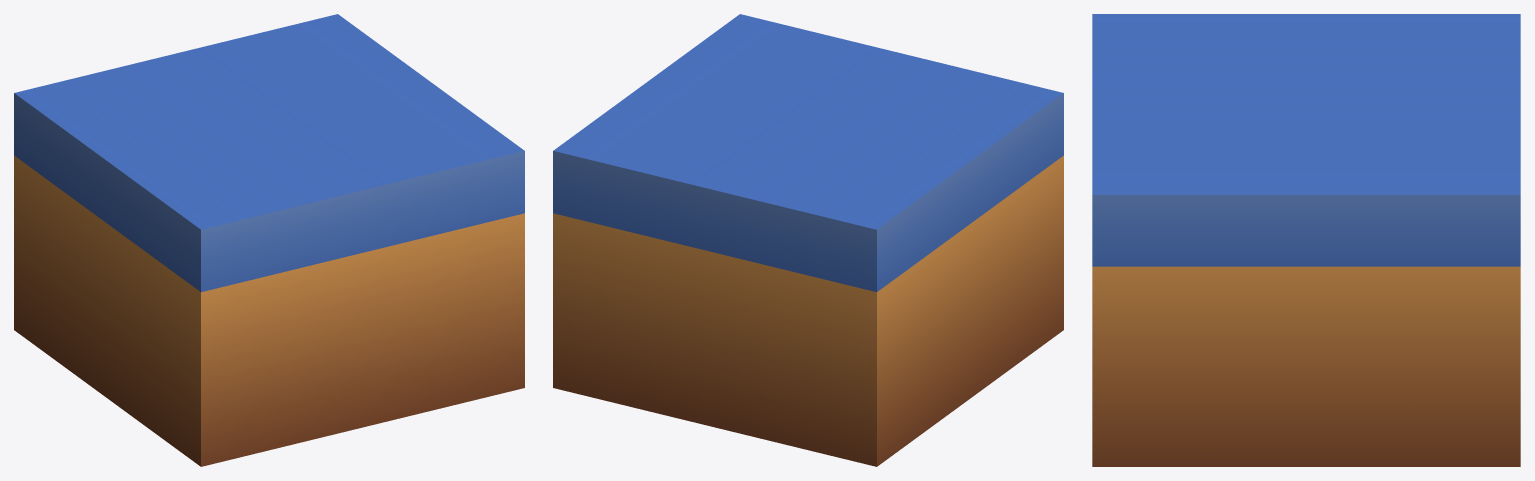
Rendered from m_SheetCake06_Slice03.fbx.
3 renders of one model, left to right at view 1: azimuth 30°, elevation 25°; view 2: azimuth 150°, elevation 25°; view 3: azimuth 270°, elevation 25°, orthographic. The views are drawn at different scales.
Visible parts, largest first — view 1: m_SheetCake06_Slice03; view 2: m_SheetCake06_Slice03; view 3: m_SheetCake06_Slice03.
Boxes of the visible parts, x1=… form: m_SheetCake06_Slice03: x1=14, y1=14, x2=524, y2=466; m_SheetCake06_Slice03: x1=553, y1=14, x2=1063, y2=466; m_SheetCake06_Slice03: x1=1092, y1=14, x2=1520, y2=466.
Size of the model in its own units: 10 by 7 by 10.
